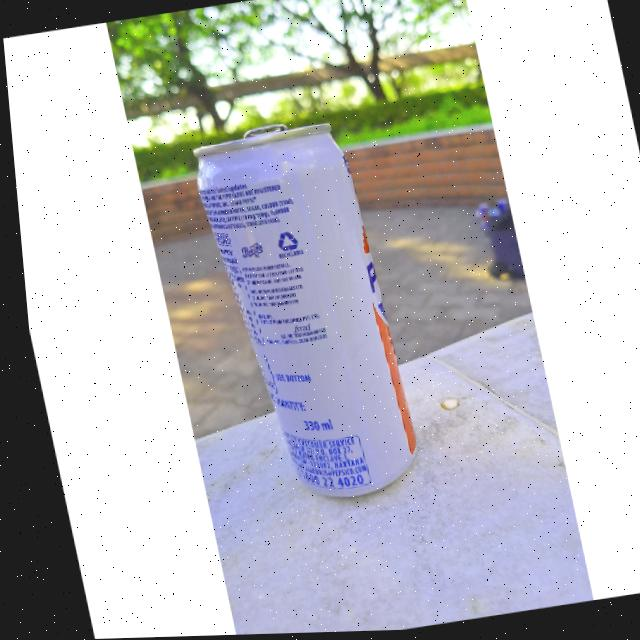Pepsi Retro: (179, 110, 431, 516)
